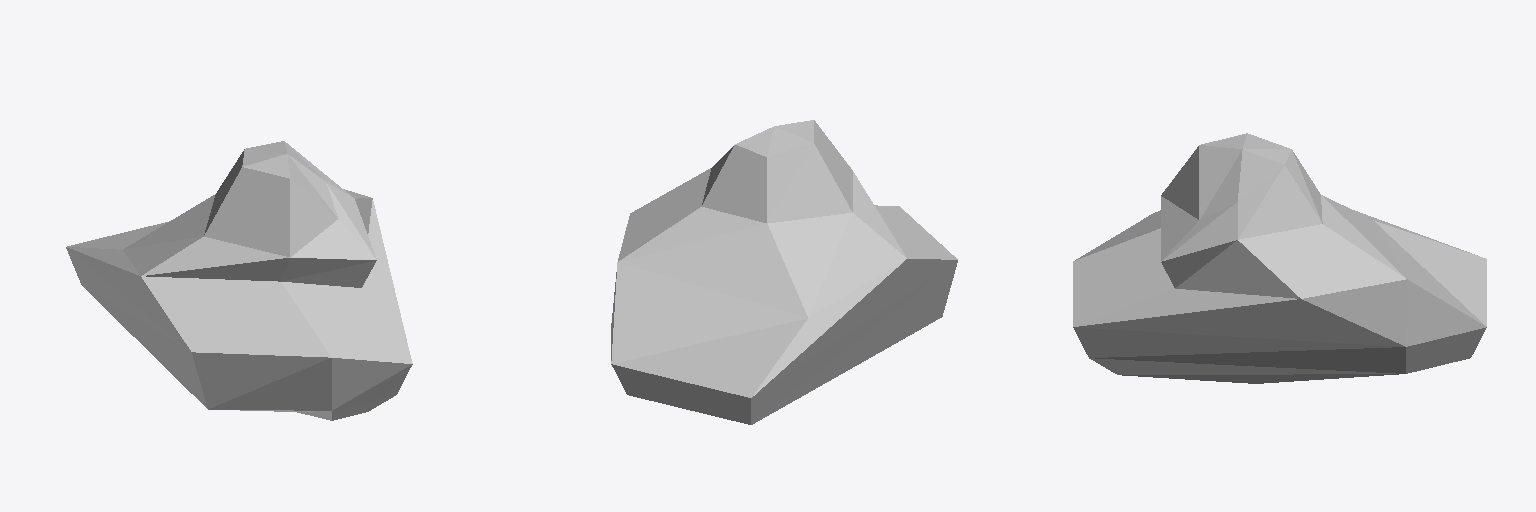
File: Rockdark3.obj
3 renders of one model, left to right at view 1: azimuth 30°, elevation 25°; view 2: azimuth 150°, elevation 25°; view 3: azimuth 270°, elevation 25°, orthographic.
Visible parts, largest first — view 1: pasted__pSphere5 group63; view 2: pasted__pSphere5 group63; view 3: pasted__pSphere5 group63.
Part boxes in pixels (x1,y1,x2,y2): pasted__pSphere5 group63: (66,141,412,420); pasted__pSphere5 group63: (611,120,957,424); pasted__pSphere5 group63: (1073,133,1486,383).
Bounding box in the file's own units: 3.07 × 2.6 × 4.32.